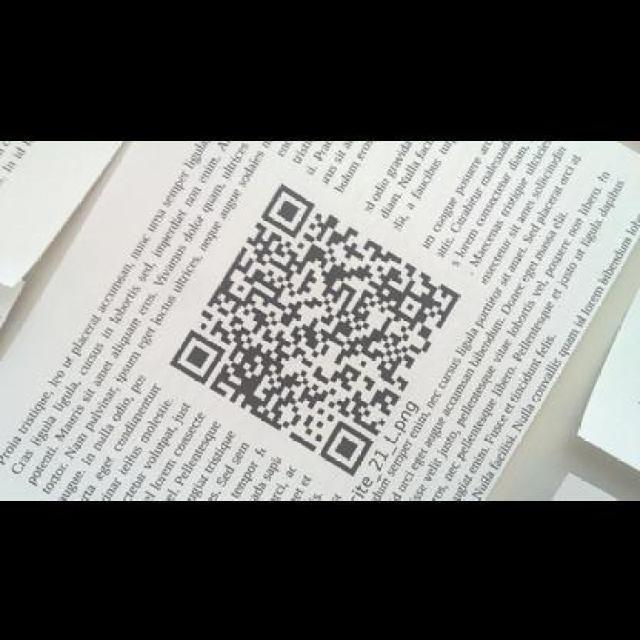QRCode: (162, 173, 467, 482)
